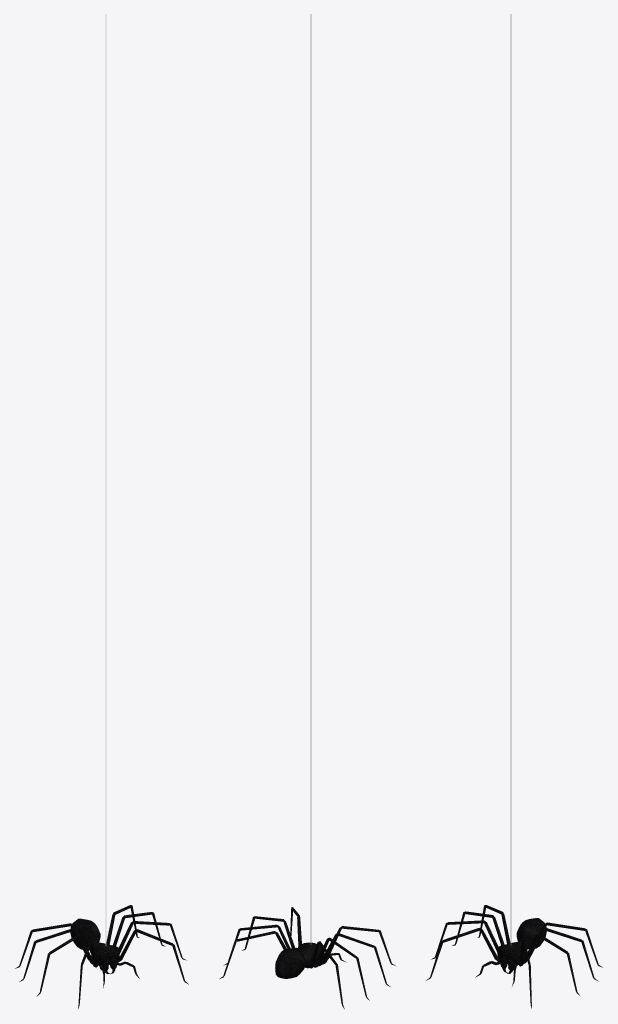
File: spider.obj
3 views of the same model, side by side, from view 1: azimuth 30°, elevation 25°; view 2: azimuth 150°, elevation 25°; view 3: azimuth 330°, elevation 25° (orthographic).
Visible parts, largest first — view 1: spider_position_2; view 2: spider_position_2; view 3: spider_position_2.
Boxes of the visible parts, bbox=[...] form: spider_position_2: bbox=[15, 14, 188, 1008]; spider_position_2: bbox=[219, 14, 395, 1009]; spider_position_2: bbox=[426, 14, 602, 1008].
Size of the model in its own units: 0.2662 by 1.62 by 0.1944.
